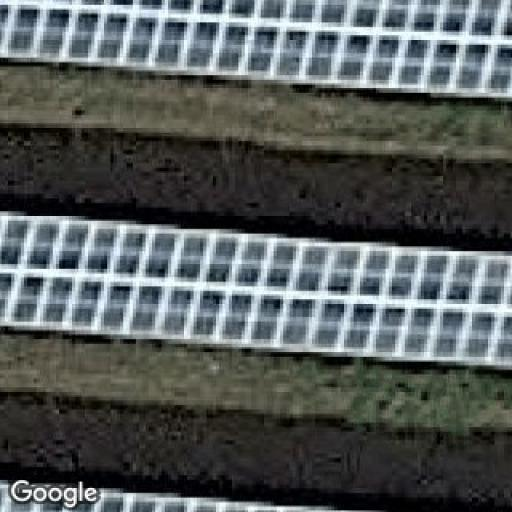solar-panel: (0, 218, 512, 364), (0, 0, 512, 107), (0, 485, 320, 512)
